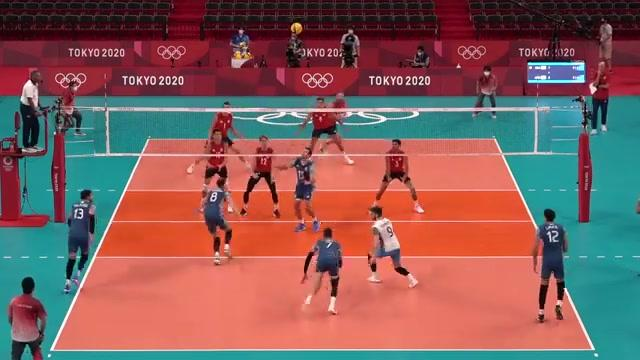ball: (290, 22, 304, 36)
